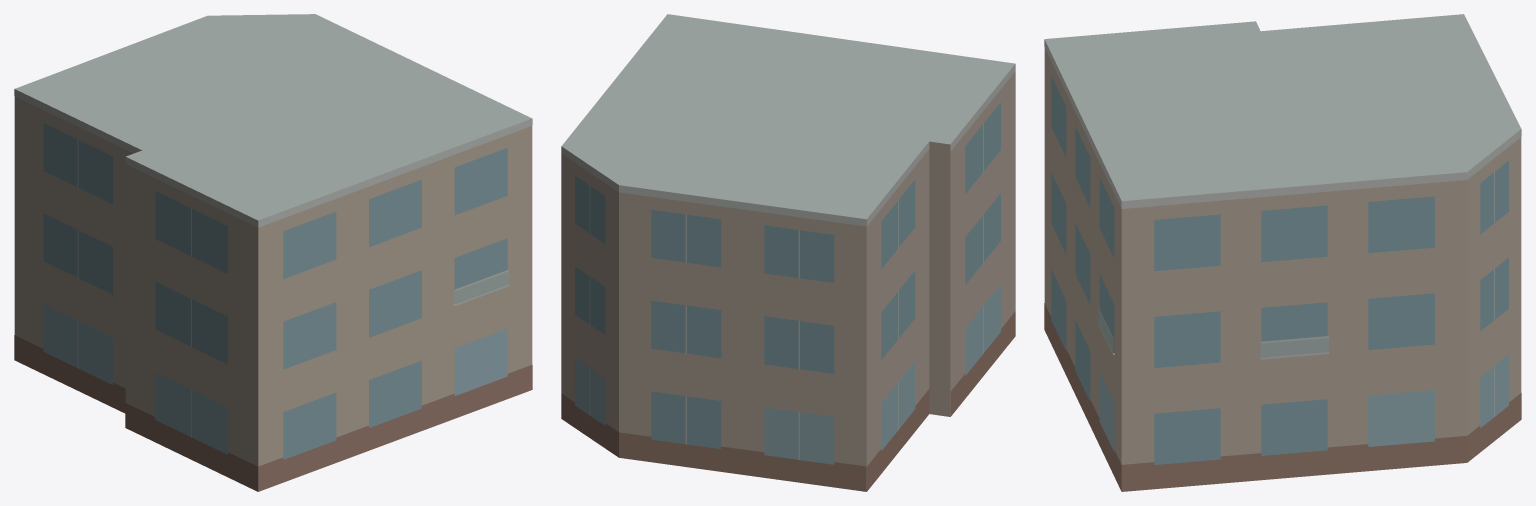
File: survey-upis-32708912.glb
3 views of the same model, side by side, from view 1: azimuth 30°, elevation 25°; view 2: azimuth 150°, elevation 25°; view 3: azimuth 270°, elevation 25° (orthographic). The views are drawn at different scales.
Parts seen in each view (by area): view 1: survey-upis-32708912.tmp; view 2: survey-upis-32708912.tmp; view 3: survey-upis-32708912.tmp.
Boxes of the visible parts, x1,y1,x2,y2 form: survey-upis-32708912.tmp: (14, 14, 532, 491); survey-upis-32708912.tmp: (561, 14, 1015, 491); survey-upis-32708912.tmp: (1044, 14, 1521, 491).
Bounding box in the file's own units: 12.65 × 9.15 × 13.62.
